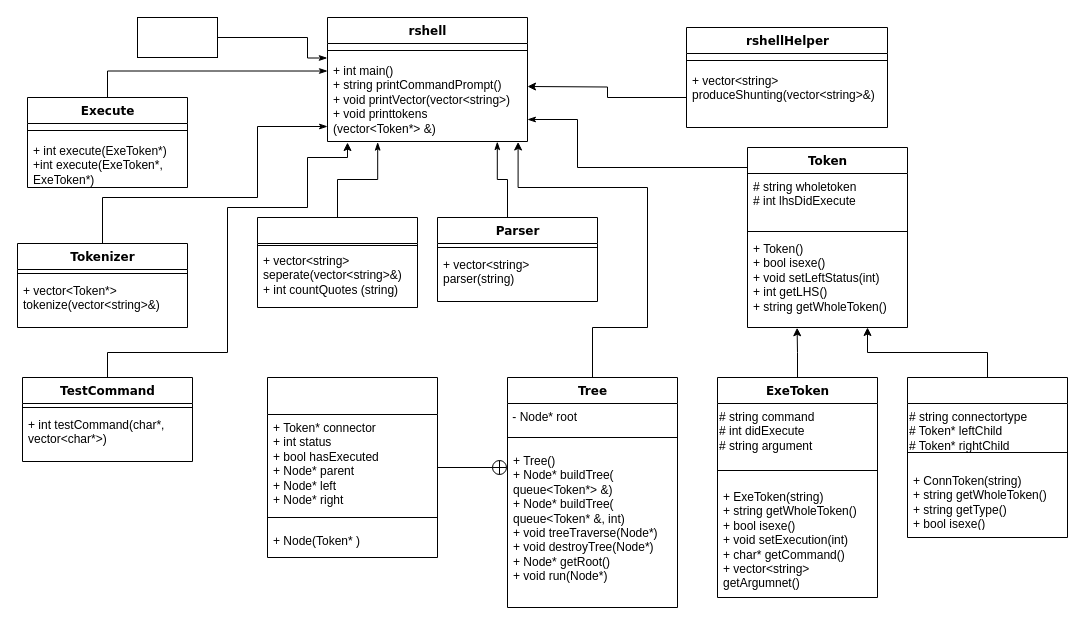
This 1085x628 diagram has some shape labels left out. The box of each missing label's shape, as (x1, y1, x2, y2) in pixels:
<<struct>> Node: (266, 376, 438, 558)
ConnTokrn: (906, 376, 1068, 538)
Separate: (256, 216, 418, 308)
User: (136, 16, 218, 58)
